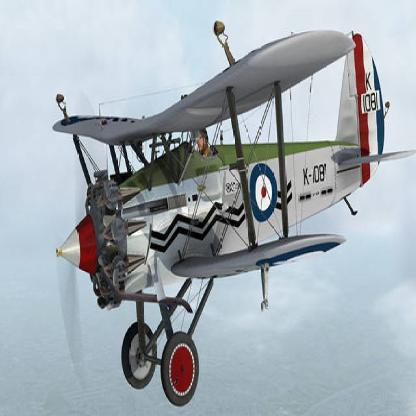CIV_Plane: (46, 21, 406, 407)
